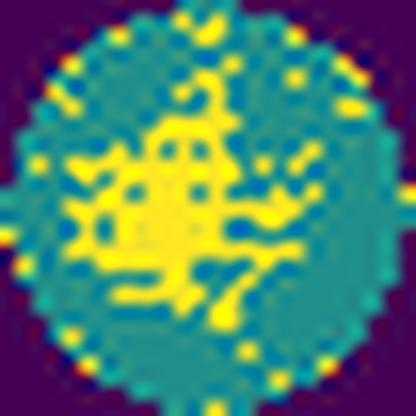Center: (68, 71, 313, 329)
